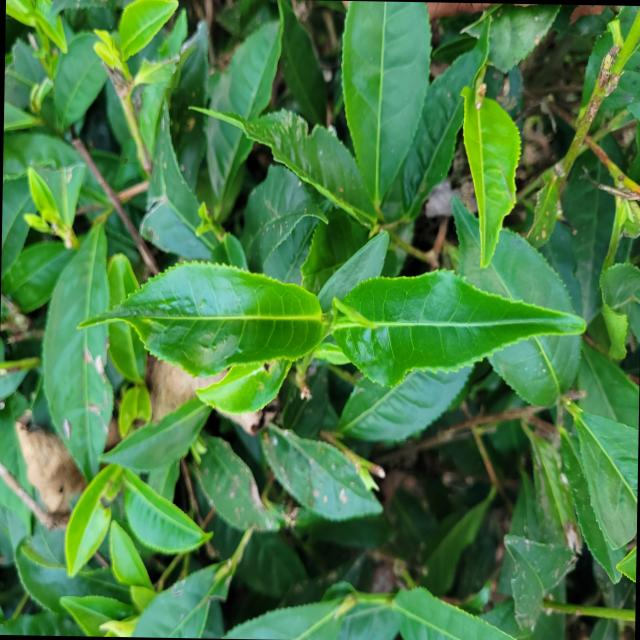Catagory A(1-2 days): (110, 0, 182, 87)
